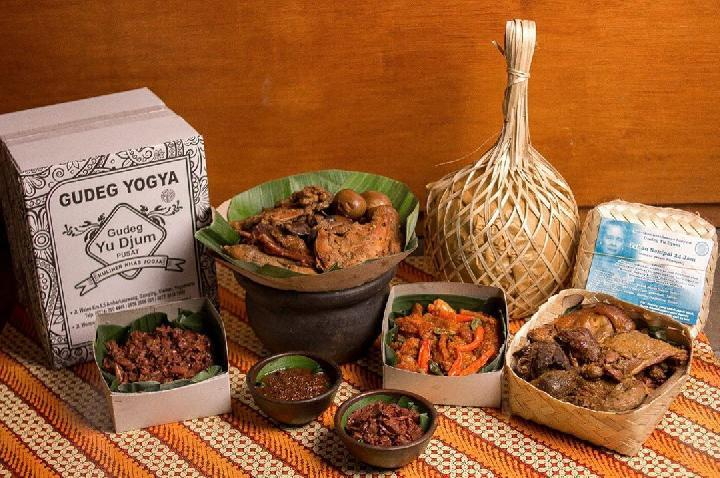gudeg: (223, 187, 404, 275)
